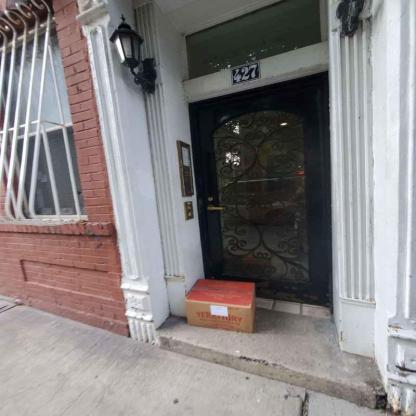label: (208, 305, 229, 317)
package: (184, 276, 256, 332)
